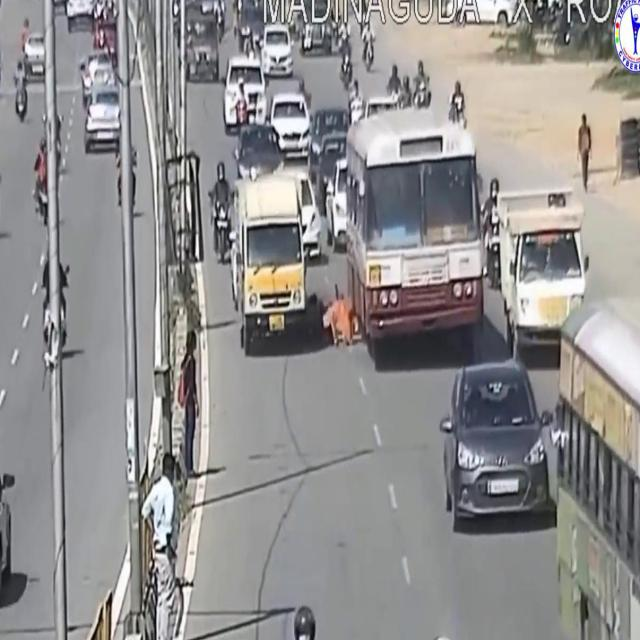accident: (229, 105, 487, 379)
non_accident: (438, 178, 640, 640), (181, 0, 310, 160), (54, 0, 122, 167)
